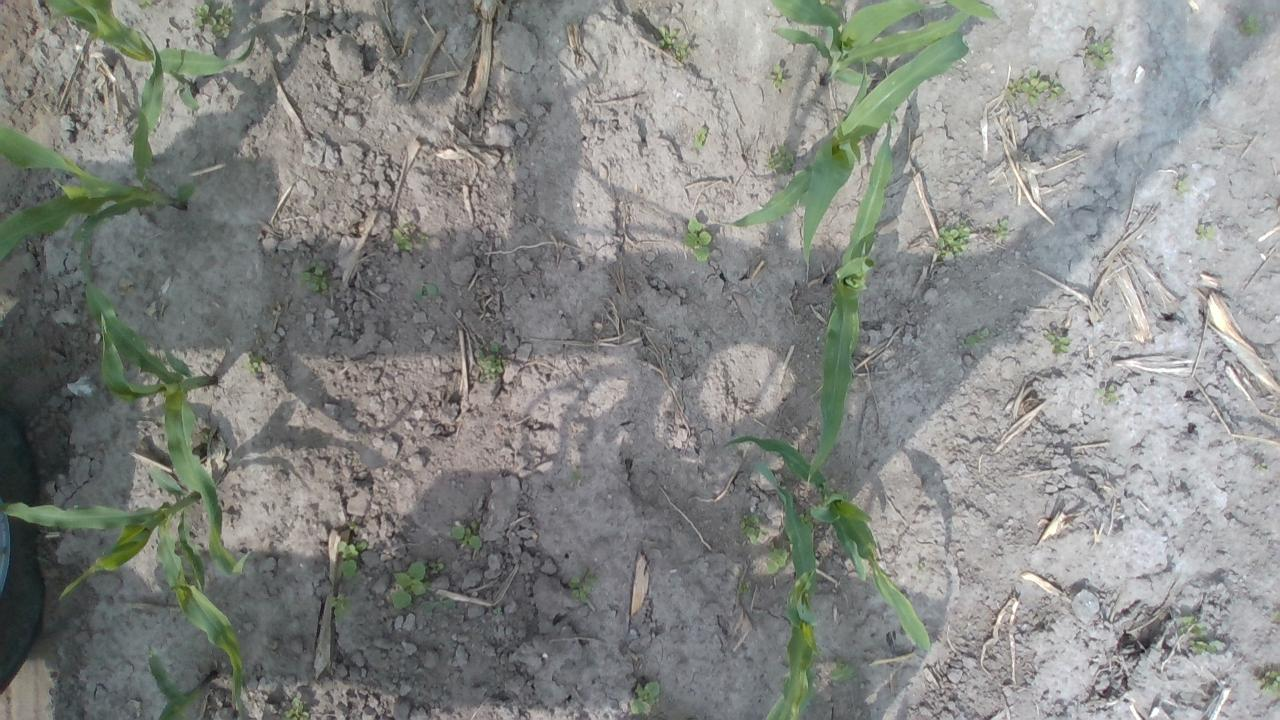Maize: (0, 464, 251, 720), (82, 219, 255, 581), (725, 27, 972, 266), (0, 22, 195, 267), (725, 434, 929, 654), (808, 119, 894, 486), (45, 0, 256, 113), (770, 0, 1000, 86), (753, 457, 817, 720), (148, 651, 219, 720)
Weeds: (392, 560, 448, 611), (1007, 70, 1064, 108), (190, 0, 233, 39), (682, 216, 713, 262), (476, 339, 509, 382), (935, 222, 970, 258), (337, 540, 368, 580), (628, 682, 661, 718), (392, 224, 431, 253), (300, 258, 328, 296), (449, 519, 481, 552), (766, 142, 799, 174), (569, 568, 599, 603), (738, 512, 768, 544), (1086, 38, 1115, 70), (327, 592, 352, 628), (766, 542, 791, 576), (830, 660, 860, 685), (1177, 614, 1207, 639), (280, 696, 310, 720), (1258, 669, 1280, 698), (1188, 638, 1222, 656), (414, 279, 440, 301), (767, 63, 787, 90), (656, 25, 679, 48), (1096, 383, 1119, 405), (240, 353, 261, 377), (1046, 334, 1070, 354), (1239, 15, 1264, 33), (966, 328, 991, 345), (690, 126, 709, 148), (1198, 223, 1218, 241), (674, 41, 692, 59), (994, 219, 1009, 239), (884, 113, 899, 128), (1175, 176, 1189, 192), (137, 0, 154, 10), (442, 600, 458, 610), (736, 582, 749, 594), (798, 512, 809, 524), (1254, 463, 1268, 472), (819, 0, 831, 8), (836, 0, 844, 9), (569, 472, 576, 481)
